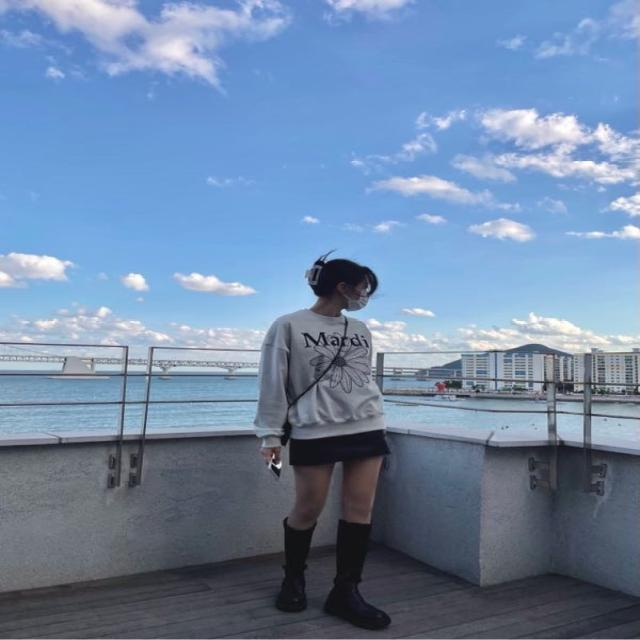mtm: (255, 310, 391, 455)
skirt: (290, 424, 390, 469)
